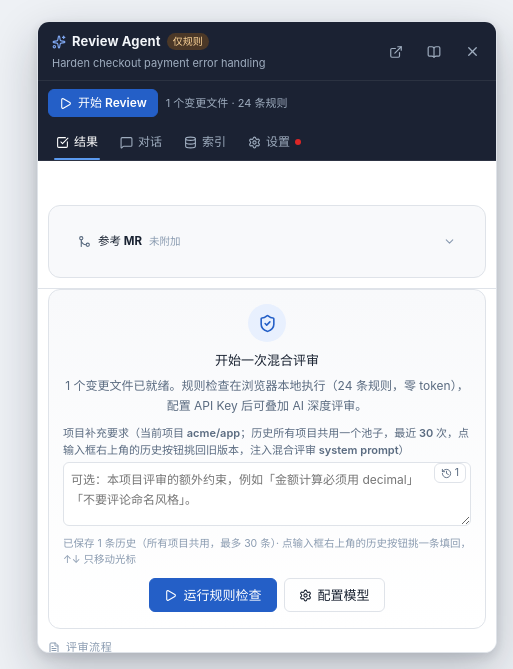
it: 起始页项目补充要求历史 › 只存过历史、当前值为空的项目也能在起始页挑回来
Expected: the text "开始一次混合评审" is shown, [215,352,319,368]
Expected: the button "开始 Review" is enabled, [48,89,158,117]
Press ArrowUp in the text box named "项目补充要求", box [63,462,471,526]
Click the button named "项目补充要求历史" at coordinates (450, 473), box [434,463,466,483]
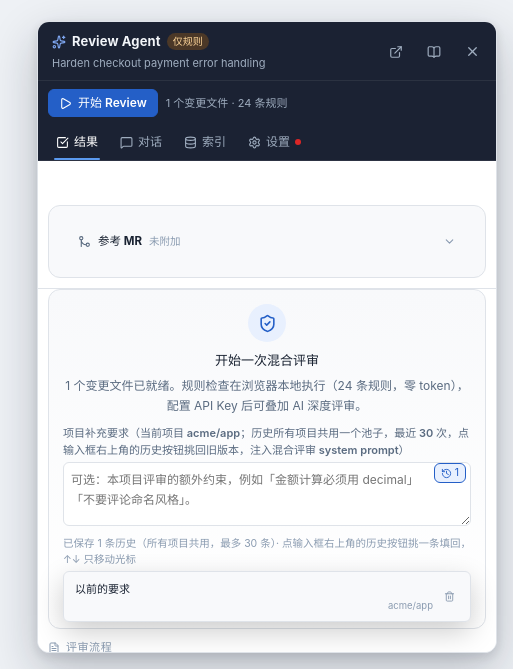
Click the option "以前的要求 acme/app" at coordinates (102, 589), box [68,576,466,617]
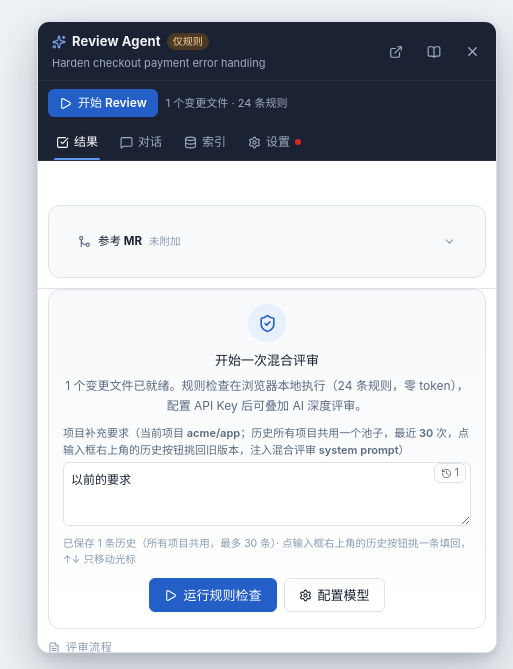
Now the text box named "项目补充要求" holds "以前的要求", box [63,462,471,526]
